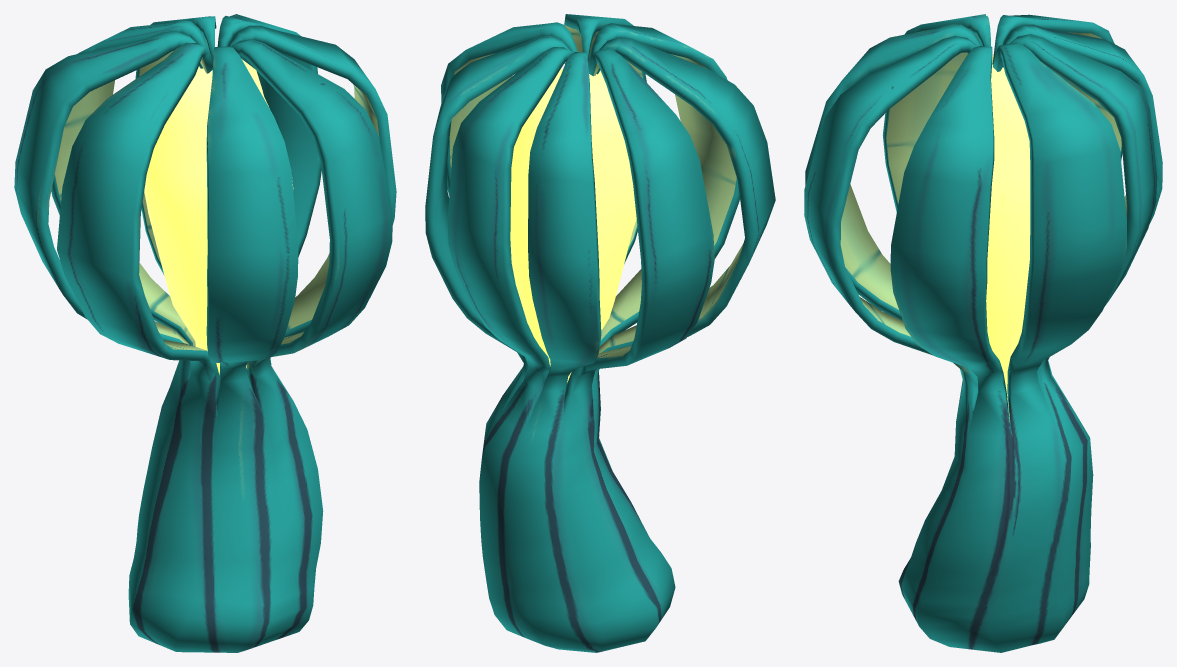
File: Juvenile Tree.fbx
The picture shows the model from 3 angles, left to right: view 1: azimuth 30°, elevation 25°; view 2: azimuth 150°, elevation 25°; view 3: azimuth 270°, elevation 25°; orthographic projection.
Visible parts, largest first — view 1: juvenile tree, Juvenile core; view 2: juvenile tree, Juvenile core; view 3: juvenile tree, Juvenile core.
Part boxes in pixels (box(x1,y1,x2,y2)): juvenile tree: box(14, 14, 396, 652); Juvenile core: box(144, 59, 293, 374); juvenile tree: box(425, 14, 775, 652); Juvenile core: box(510, 68, 636, 382); juvenile tree: box(804, 14, 1162, 652); Juvenile core: box(986, 55, 1030, 421).
Bounding box in the file's own units: 159 × 292 × 158.
